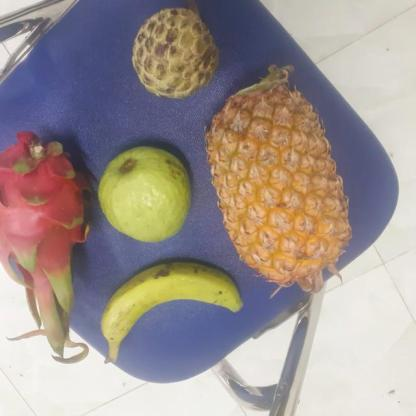annona: (132, 8, 223, 101)
banana: (104, 262, 244, 352)
guava: (97, 148, 197, 241)
pineapple: (211, 74, 356, 291)
pitaya: (0, 137, 99, 290)
